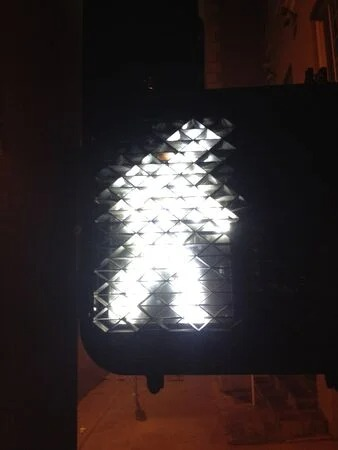pedestrian_walk: (92, 101, 238, 335)
